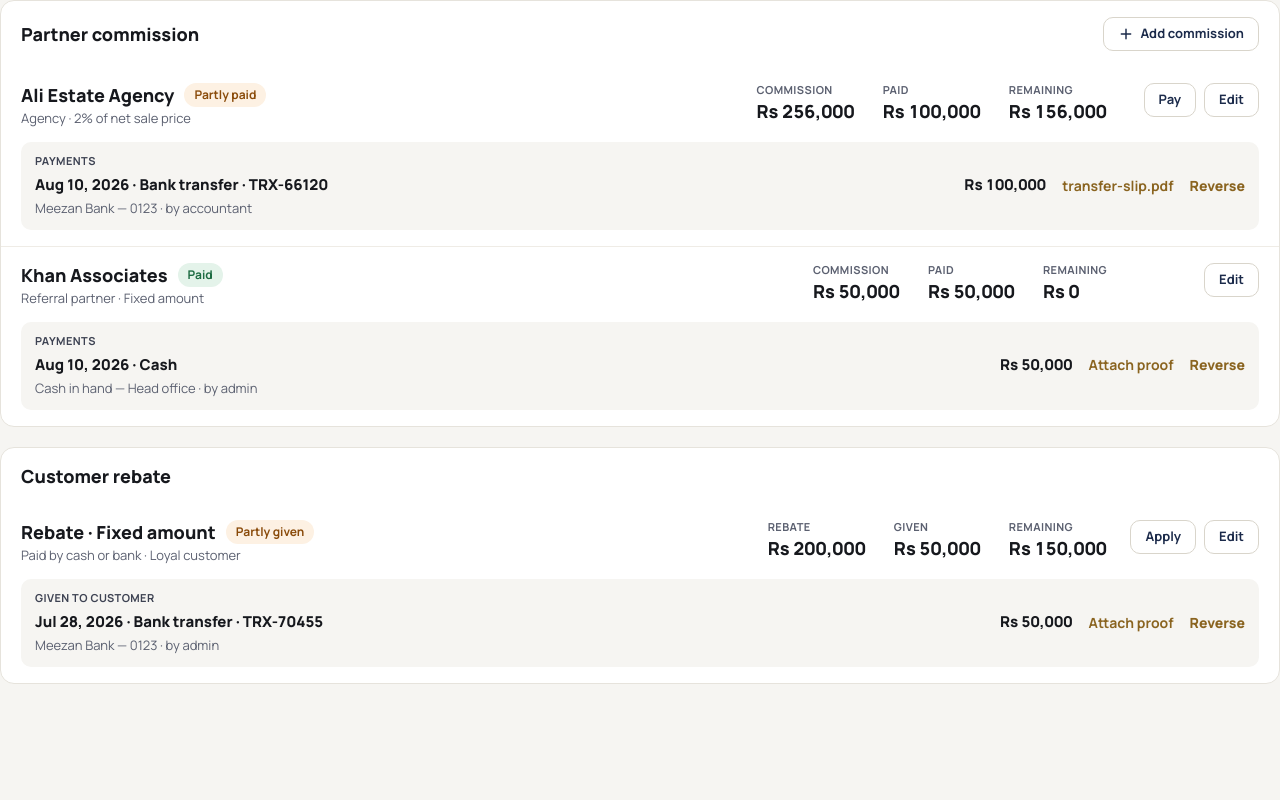
Scenario: Commission & rebate tab › reversing a payment asks for a reason in a confirm box, then reverses the whole payment
Expected: the heading "Ali Estate Agency" is shown, 21,83 -> 174,107
Click the button "Reverse" in the row of "Aug 10, 2026 · Bank transfer · TRX-66120".
click(1217, 186)  # box 1190,176 -> 1245,196
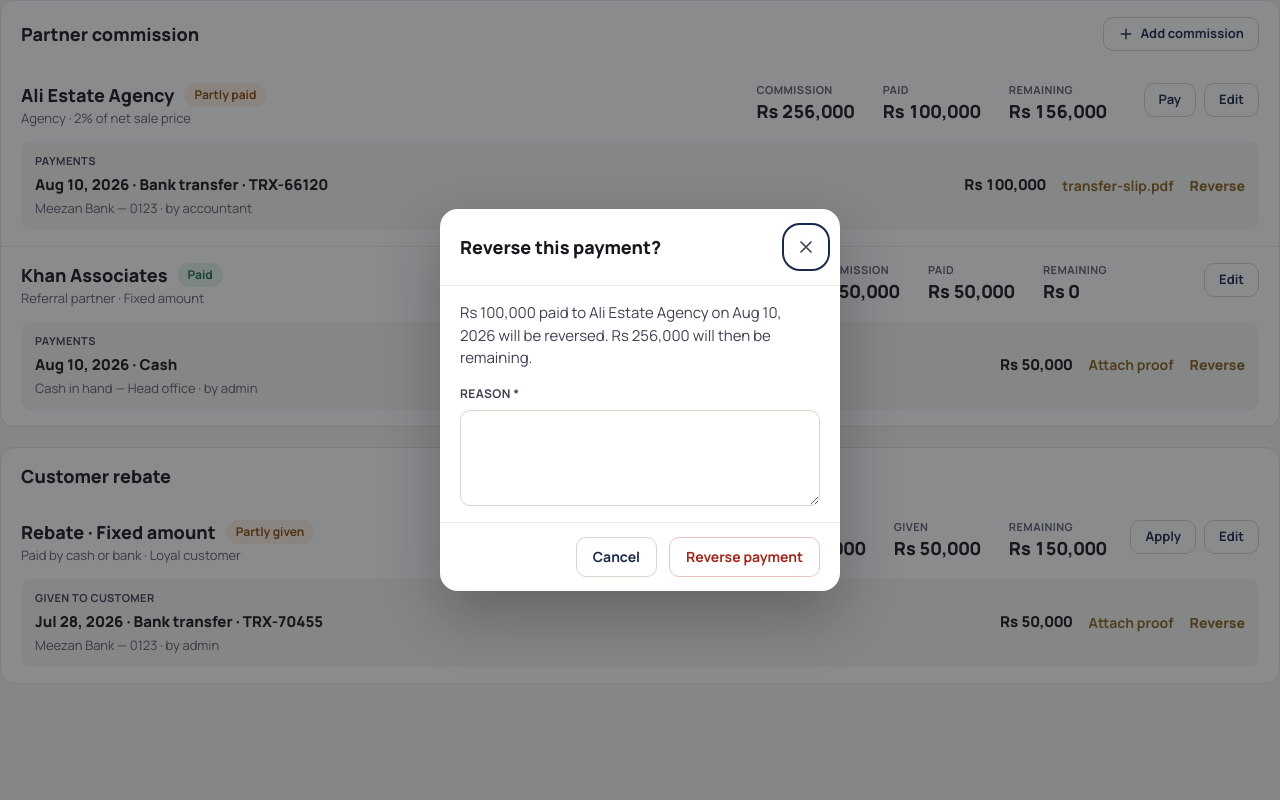
Result: the heading "Reverse this payment?" is shown at 460,235 -> 661,260
Result: the text "Rs 100,000 paid to Ali Estate Agency on Aug 10, 2026 will be reversed. Rs 256,000 will then be remaining." is shown at 460,302 -> 782,368
Click the button "Reverse payment".
click(744, 556)  # box 669,536 -> 820,576
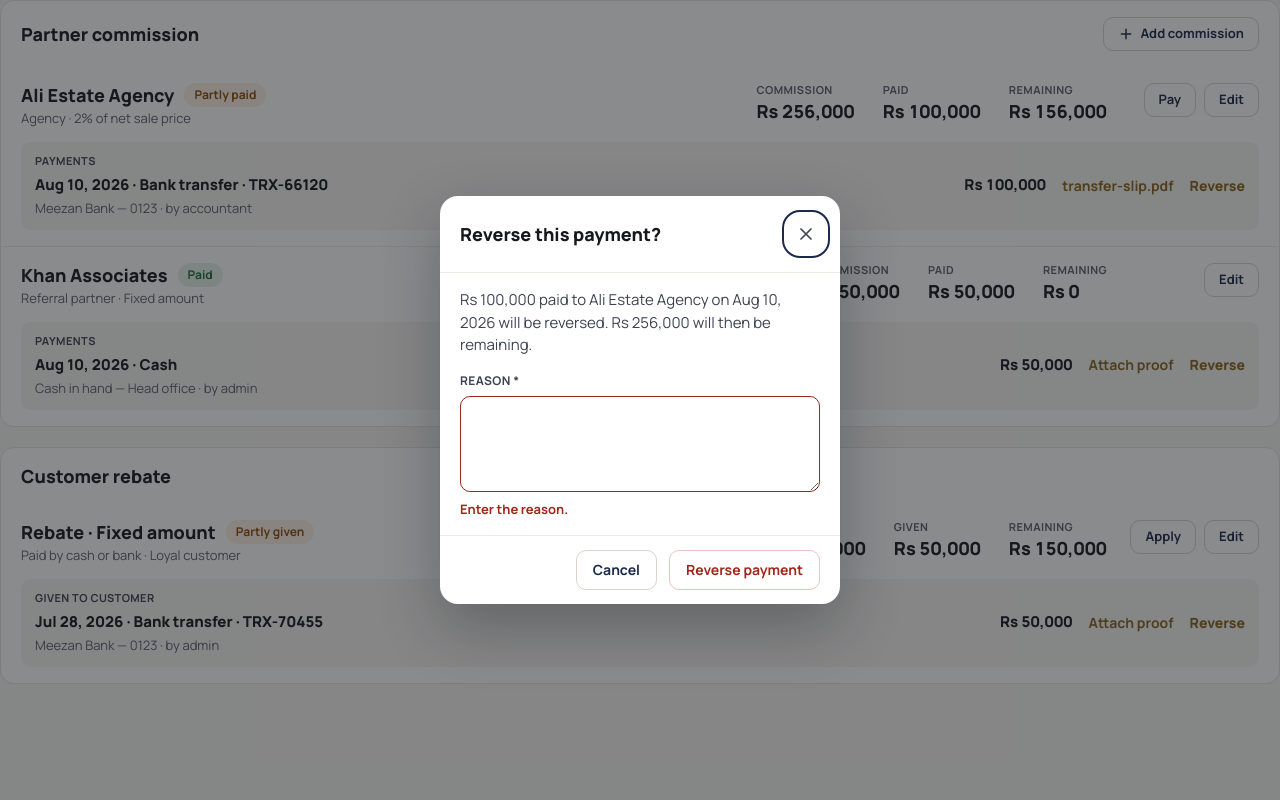
Result: the text "Enter the reason." is shown at 460,500 -> 568,518
Type "Paid to the wrong account" into the text box labelled "Reason *".
click(640, 444); type("Paid to the wrong account")  # box 460,396 -> 820,492
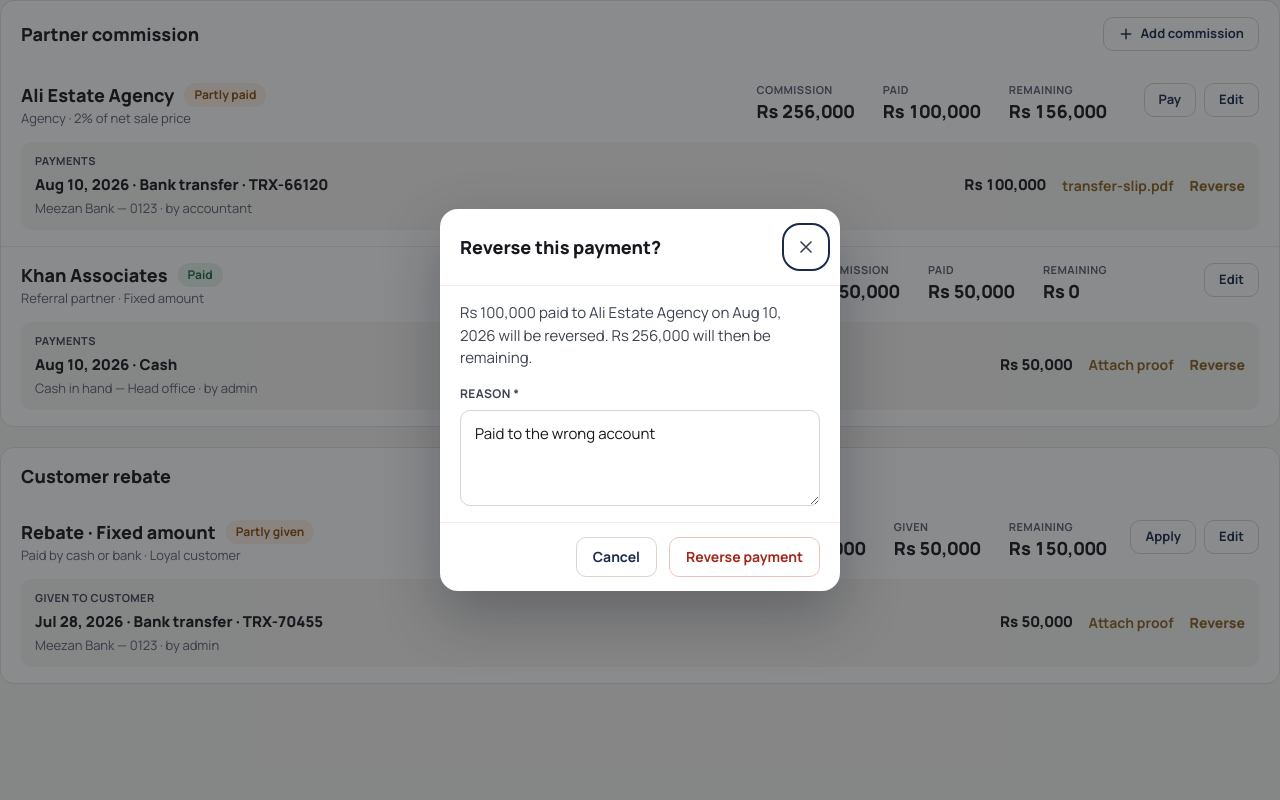
Click the button "Reverse payment".
click(744, 556)  # box 669,536 -> 820,576
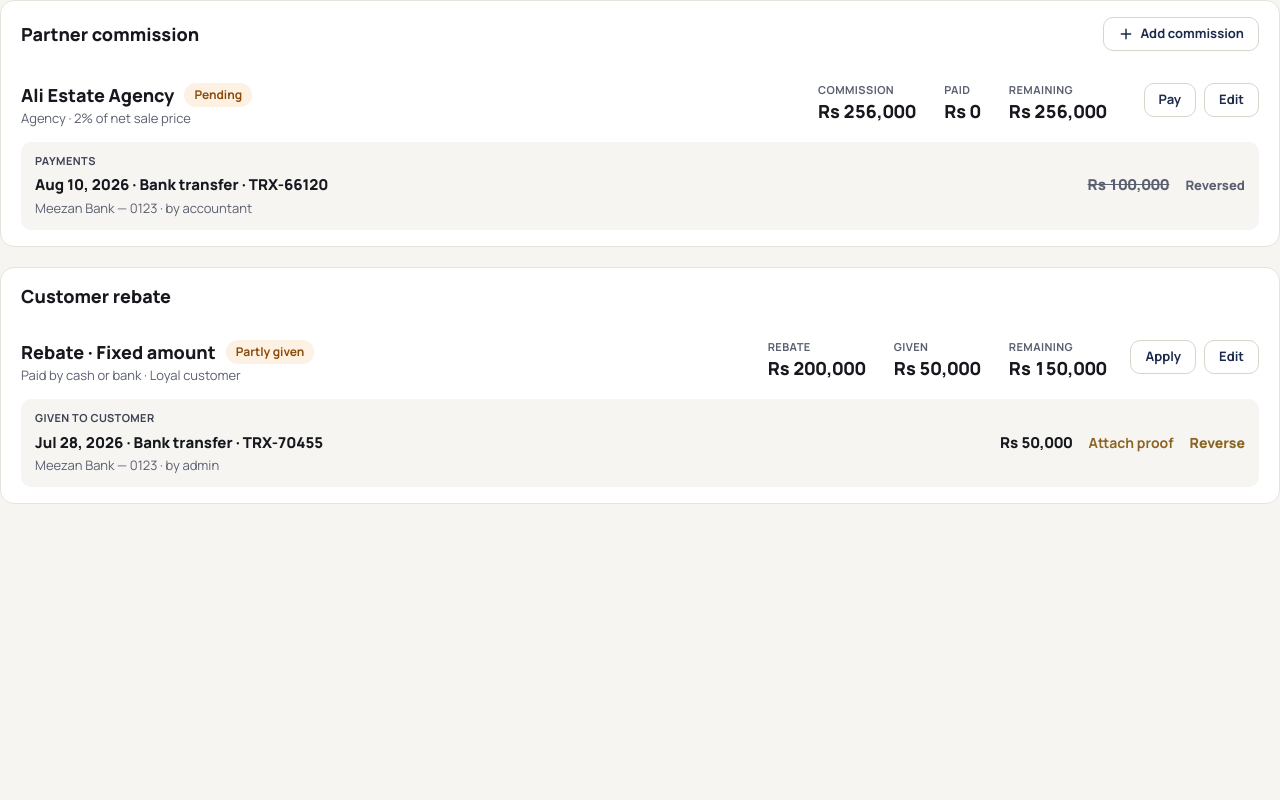
Result: the dialog is gone
Result: the text "Reversed" is shown at 1185,176 -> 1245,195
